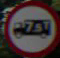Heavy Vehicles: (6, 5, 57, 48)
